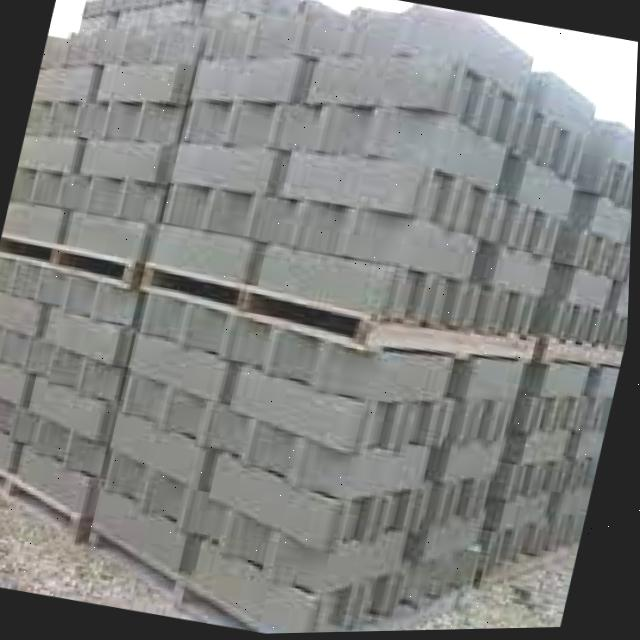bricks: (5, 0, 634, 345)
